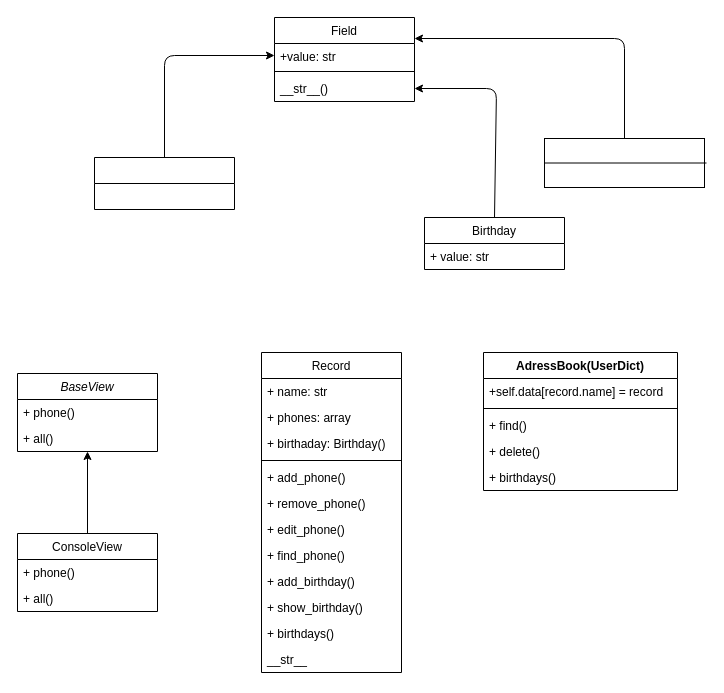
Some shapes in this 724 by 693 pixel diagram are drawn without their labels. Each missing label, with the centre of its shape:
"Name" goes at pixel 164 183.
"Phone + value: str" goes at pixel 624 163.
